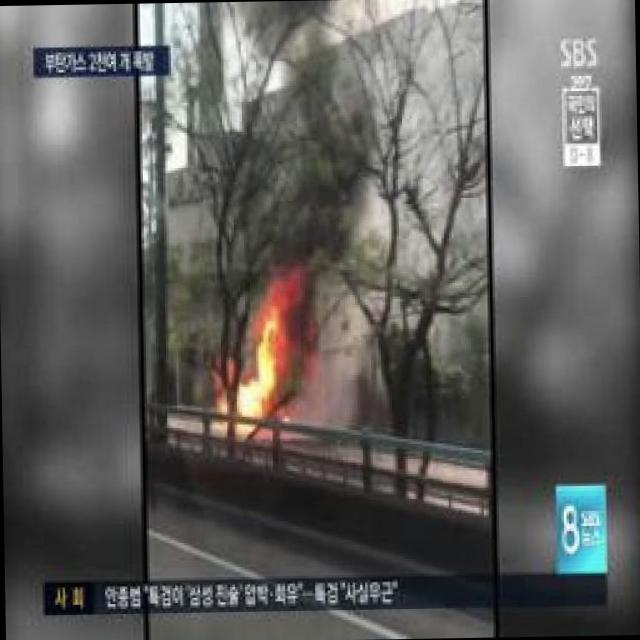Fire: (212, 257, 314, 441)
